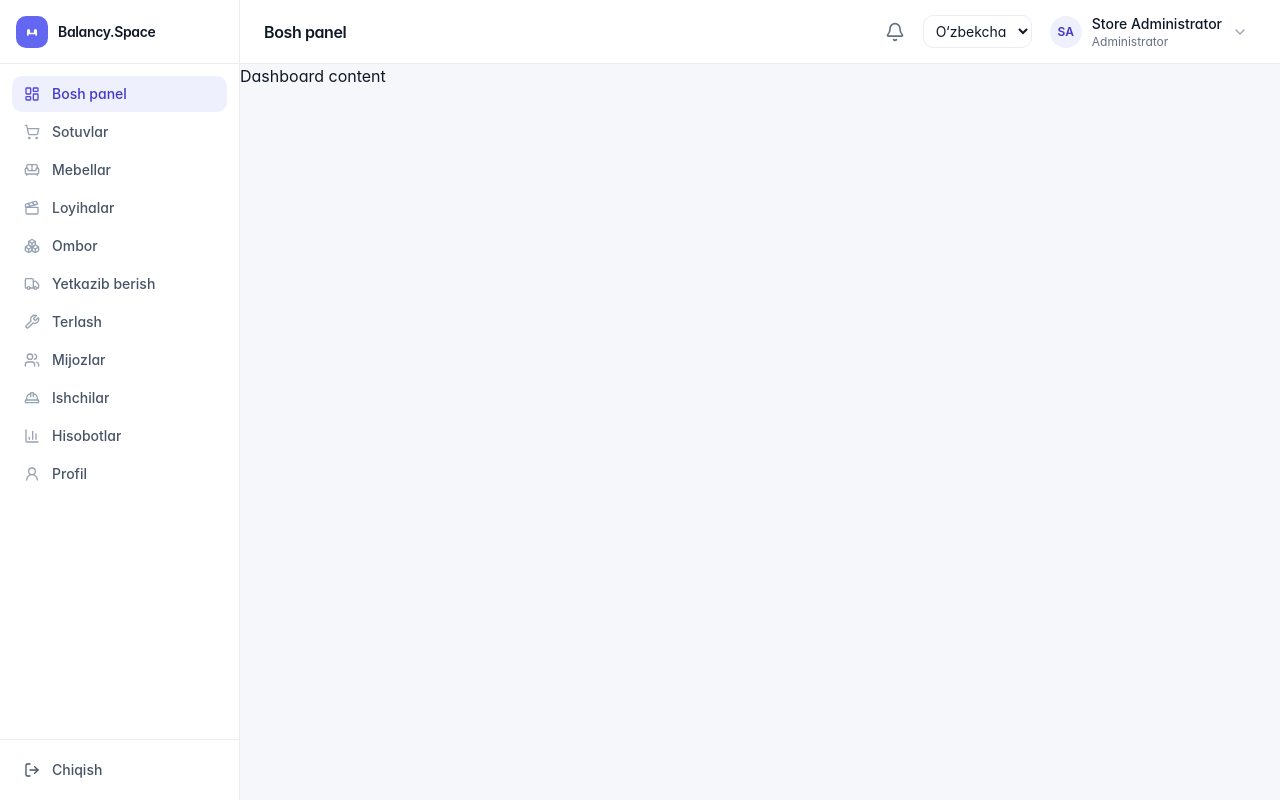
Scenario: AppLayout › moves between modules without leaving the shell
Click the link "Sotuvlar".
click(66, 132)  # box [24,123,108,140]
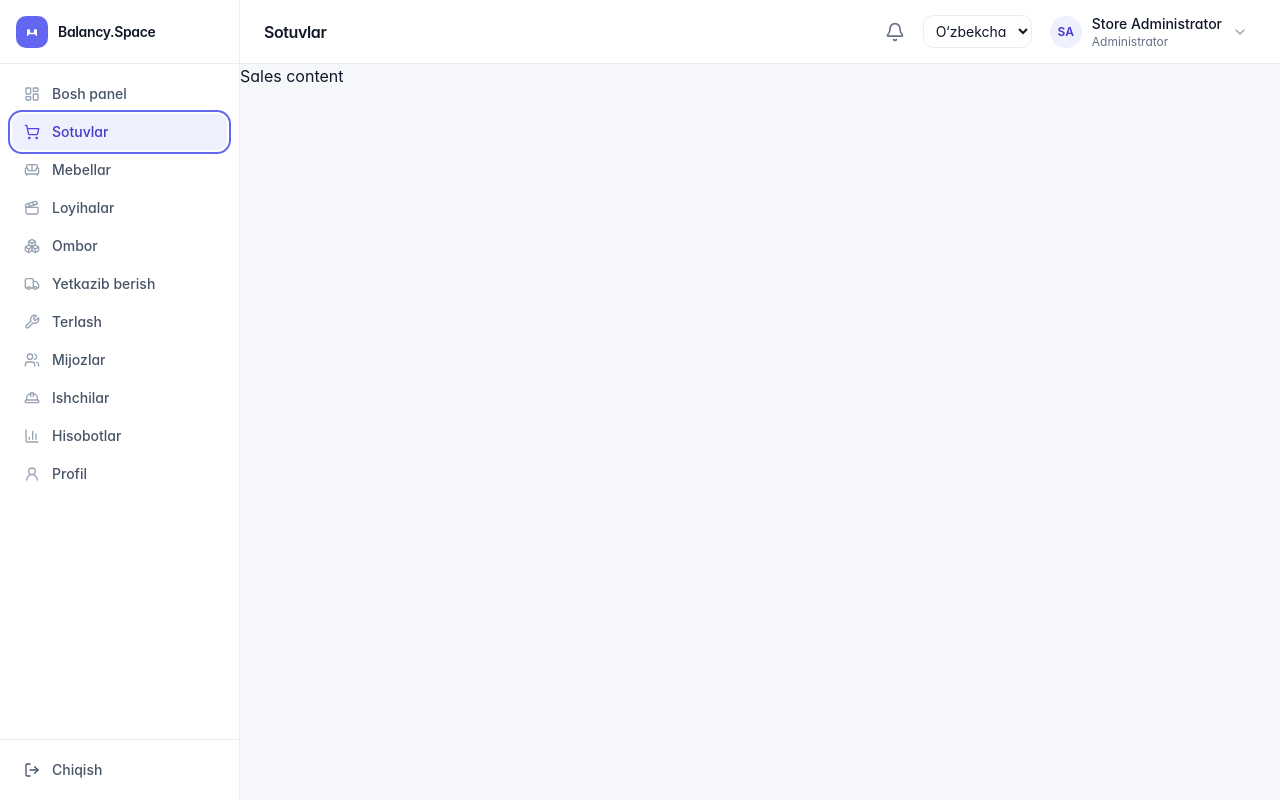
Expected: the navigation bar named "Modullar" is shown, [12,85,227,482]
Result: the heading "Sotuvlar" is shown at [264,22,326,42]
Result: the text "Sales content" is shown at [240,66,344,86]
